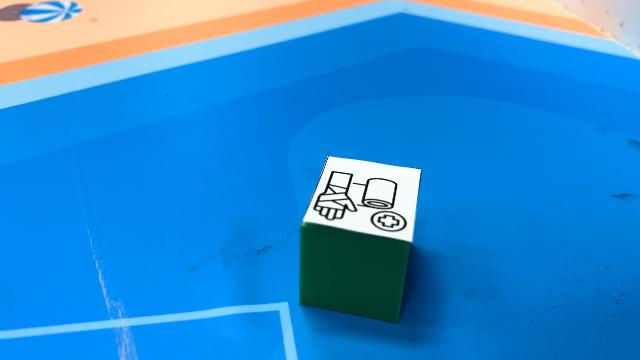bandage: (298, 156, 422, 324)
